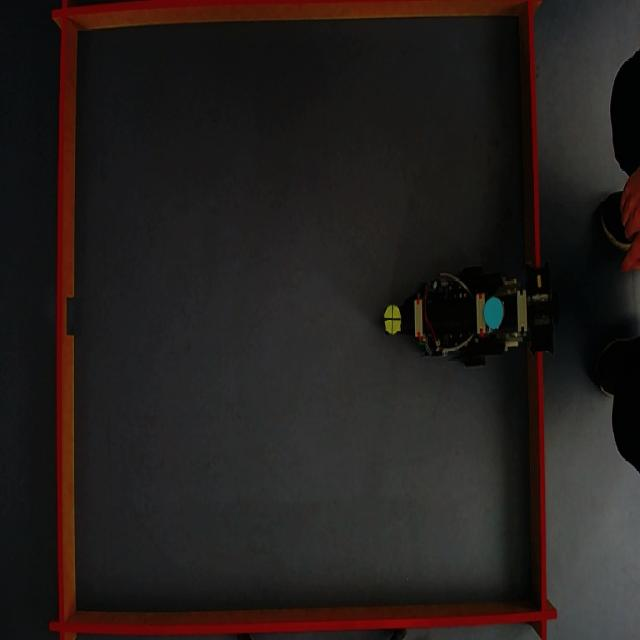robot: (384, 265, 556, 368)
robot-front: (384, 303, 402, 336)
robot-rear: (484, 291, 504, 331)
